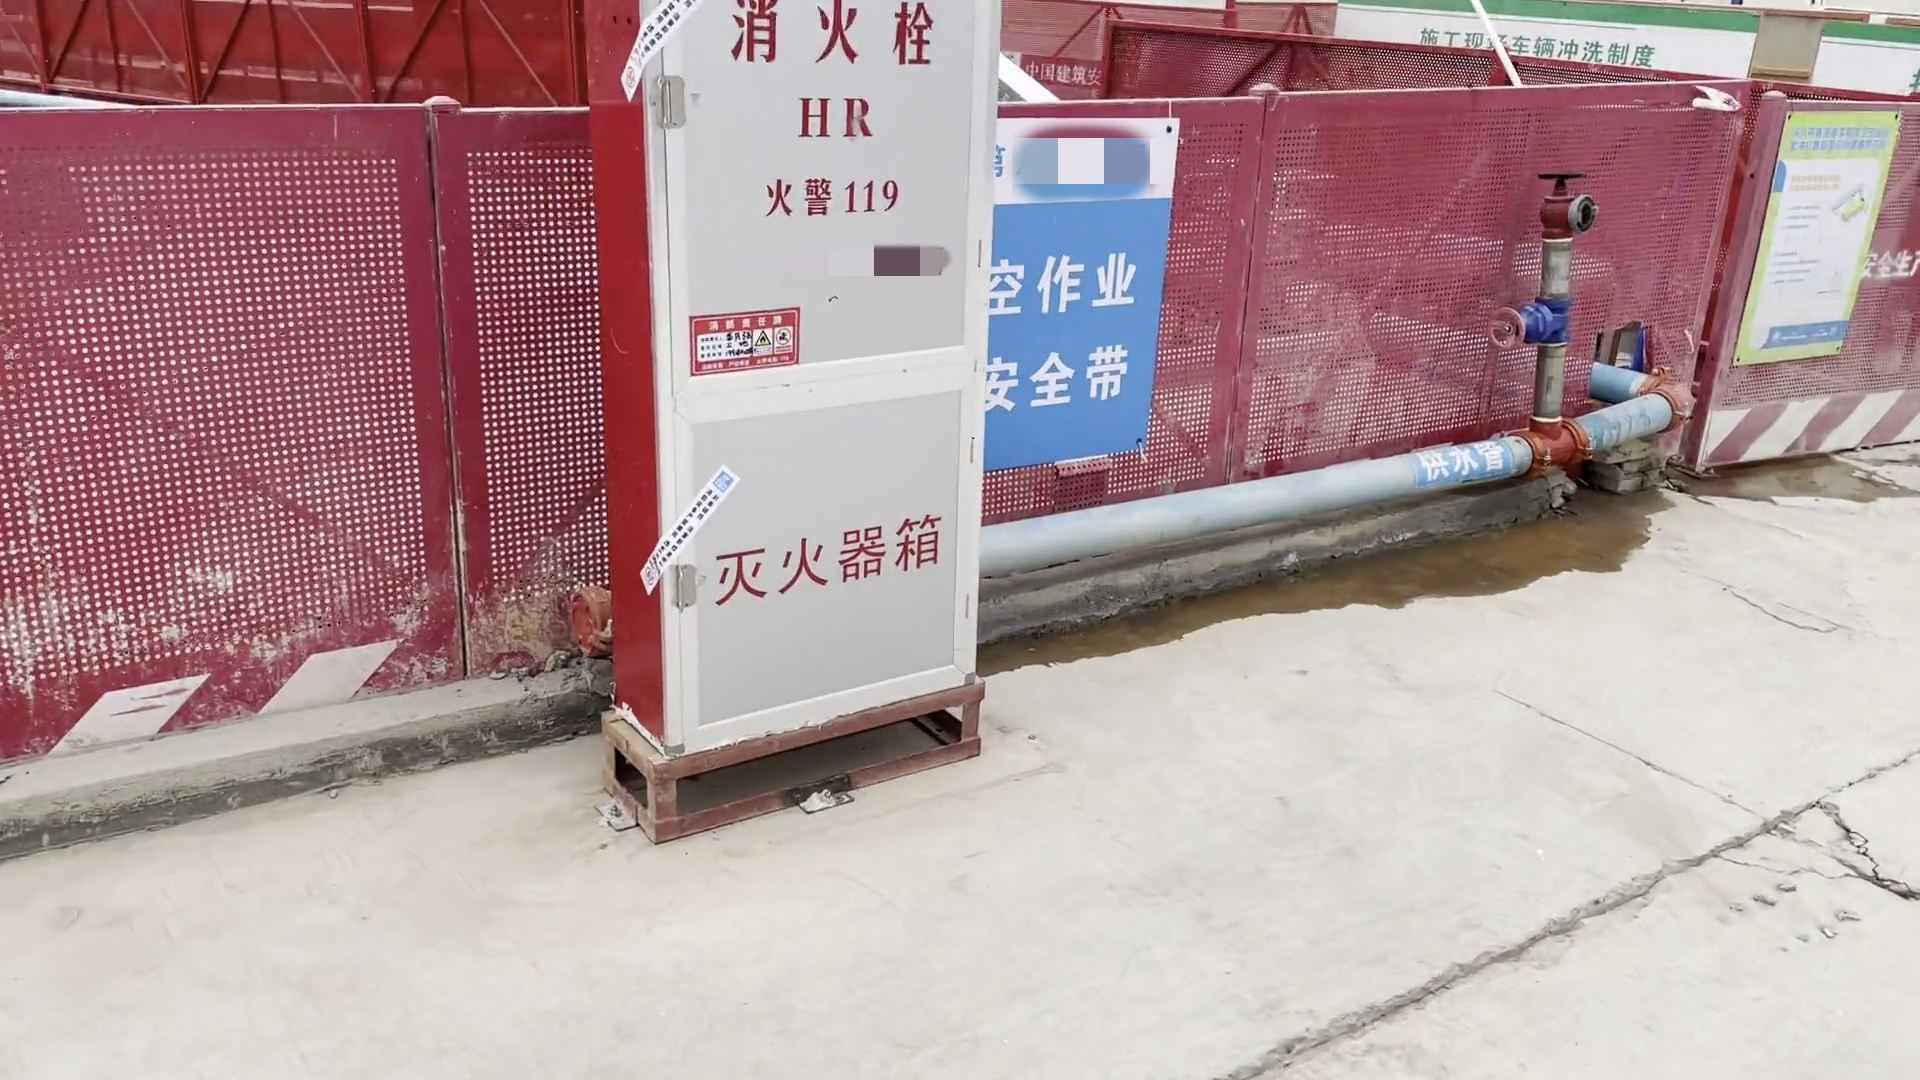fence: (7, 98, 600, 687), (1189, 49, 1749, 425), (54, 1, 595, 119)
